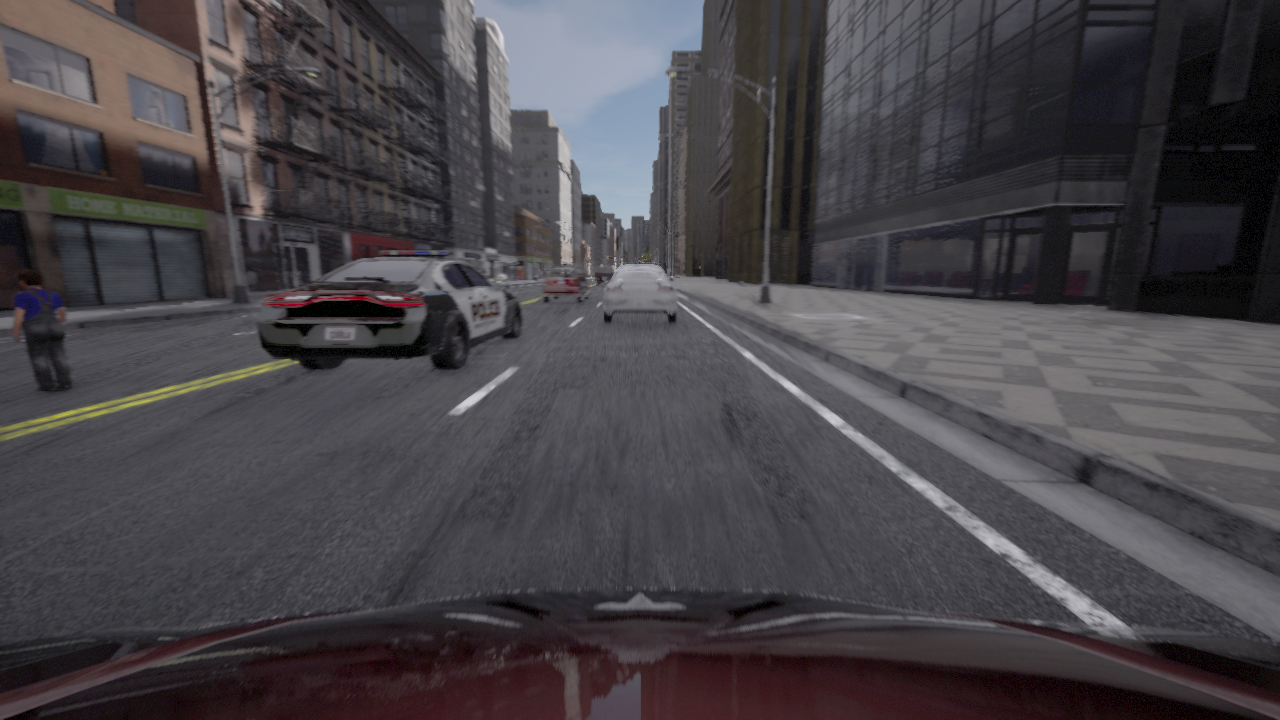cyclist: (0, 588, 1279, 719), (255, 251, 522, 369), (603, 264, 676, 322), (542, 266, 588, 302), (595, 265, 614, 286)
pedestrian: (13, 269, 72, 391)
